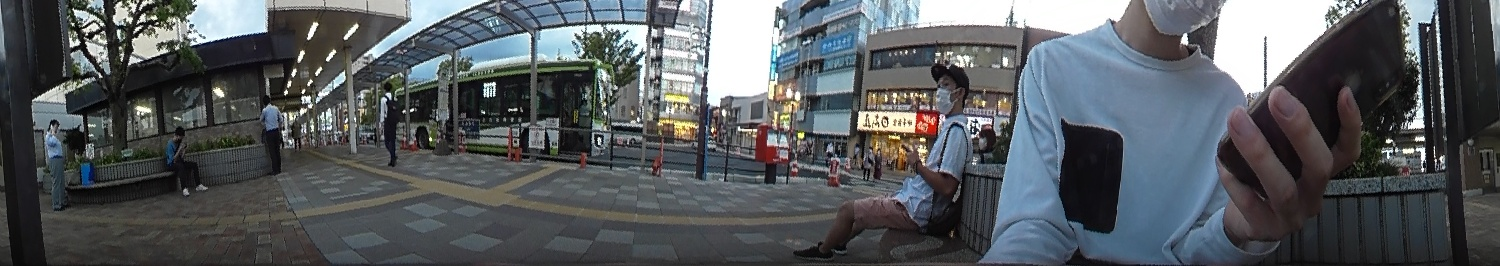difficult_person: (289, 116, 304, 151), (823, 139, 834, 171), (863, 144, 873, 179), (874, 146, 882, 177)
person: (809, 64, 972, 262), (253, 88, 287, 177), (167, 124, 210, 193), (41, 118, 71, 209), (375, 77, 403, 165)
